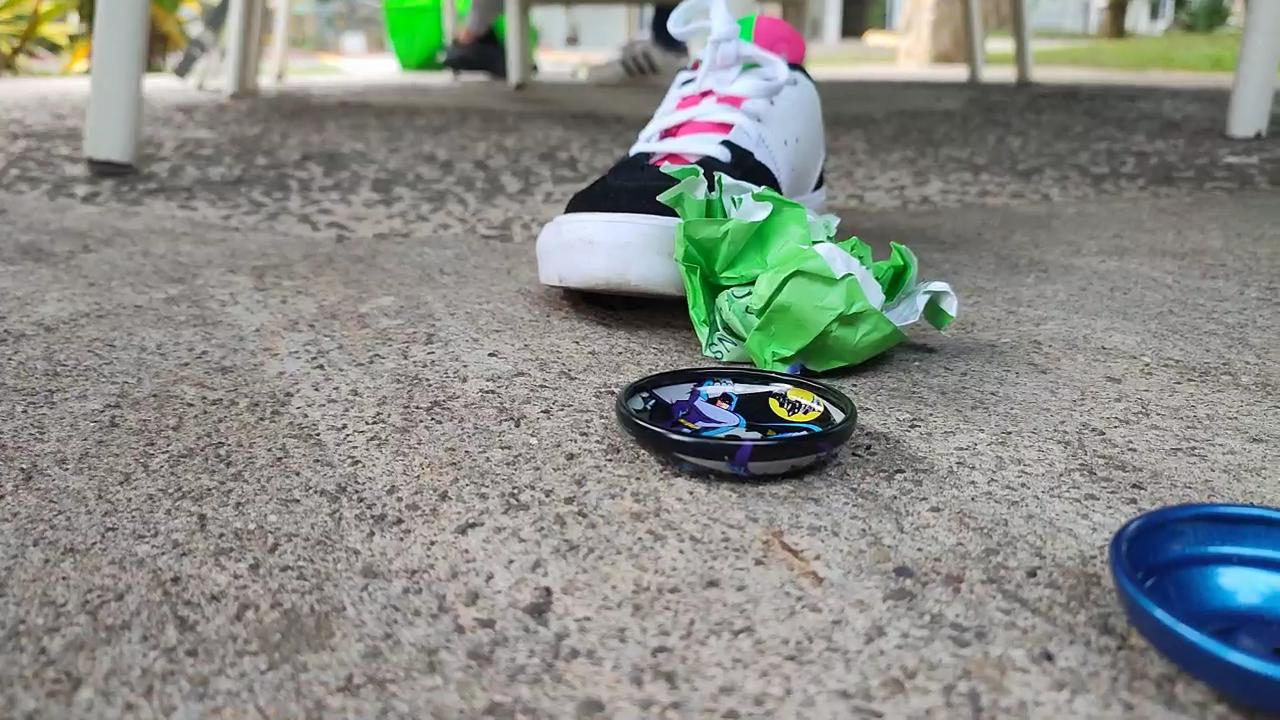Paper: (657, 150, 972, 378)
